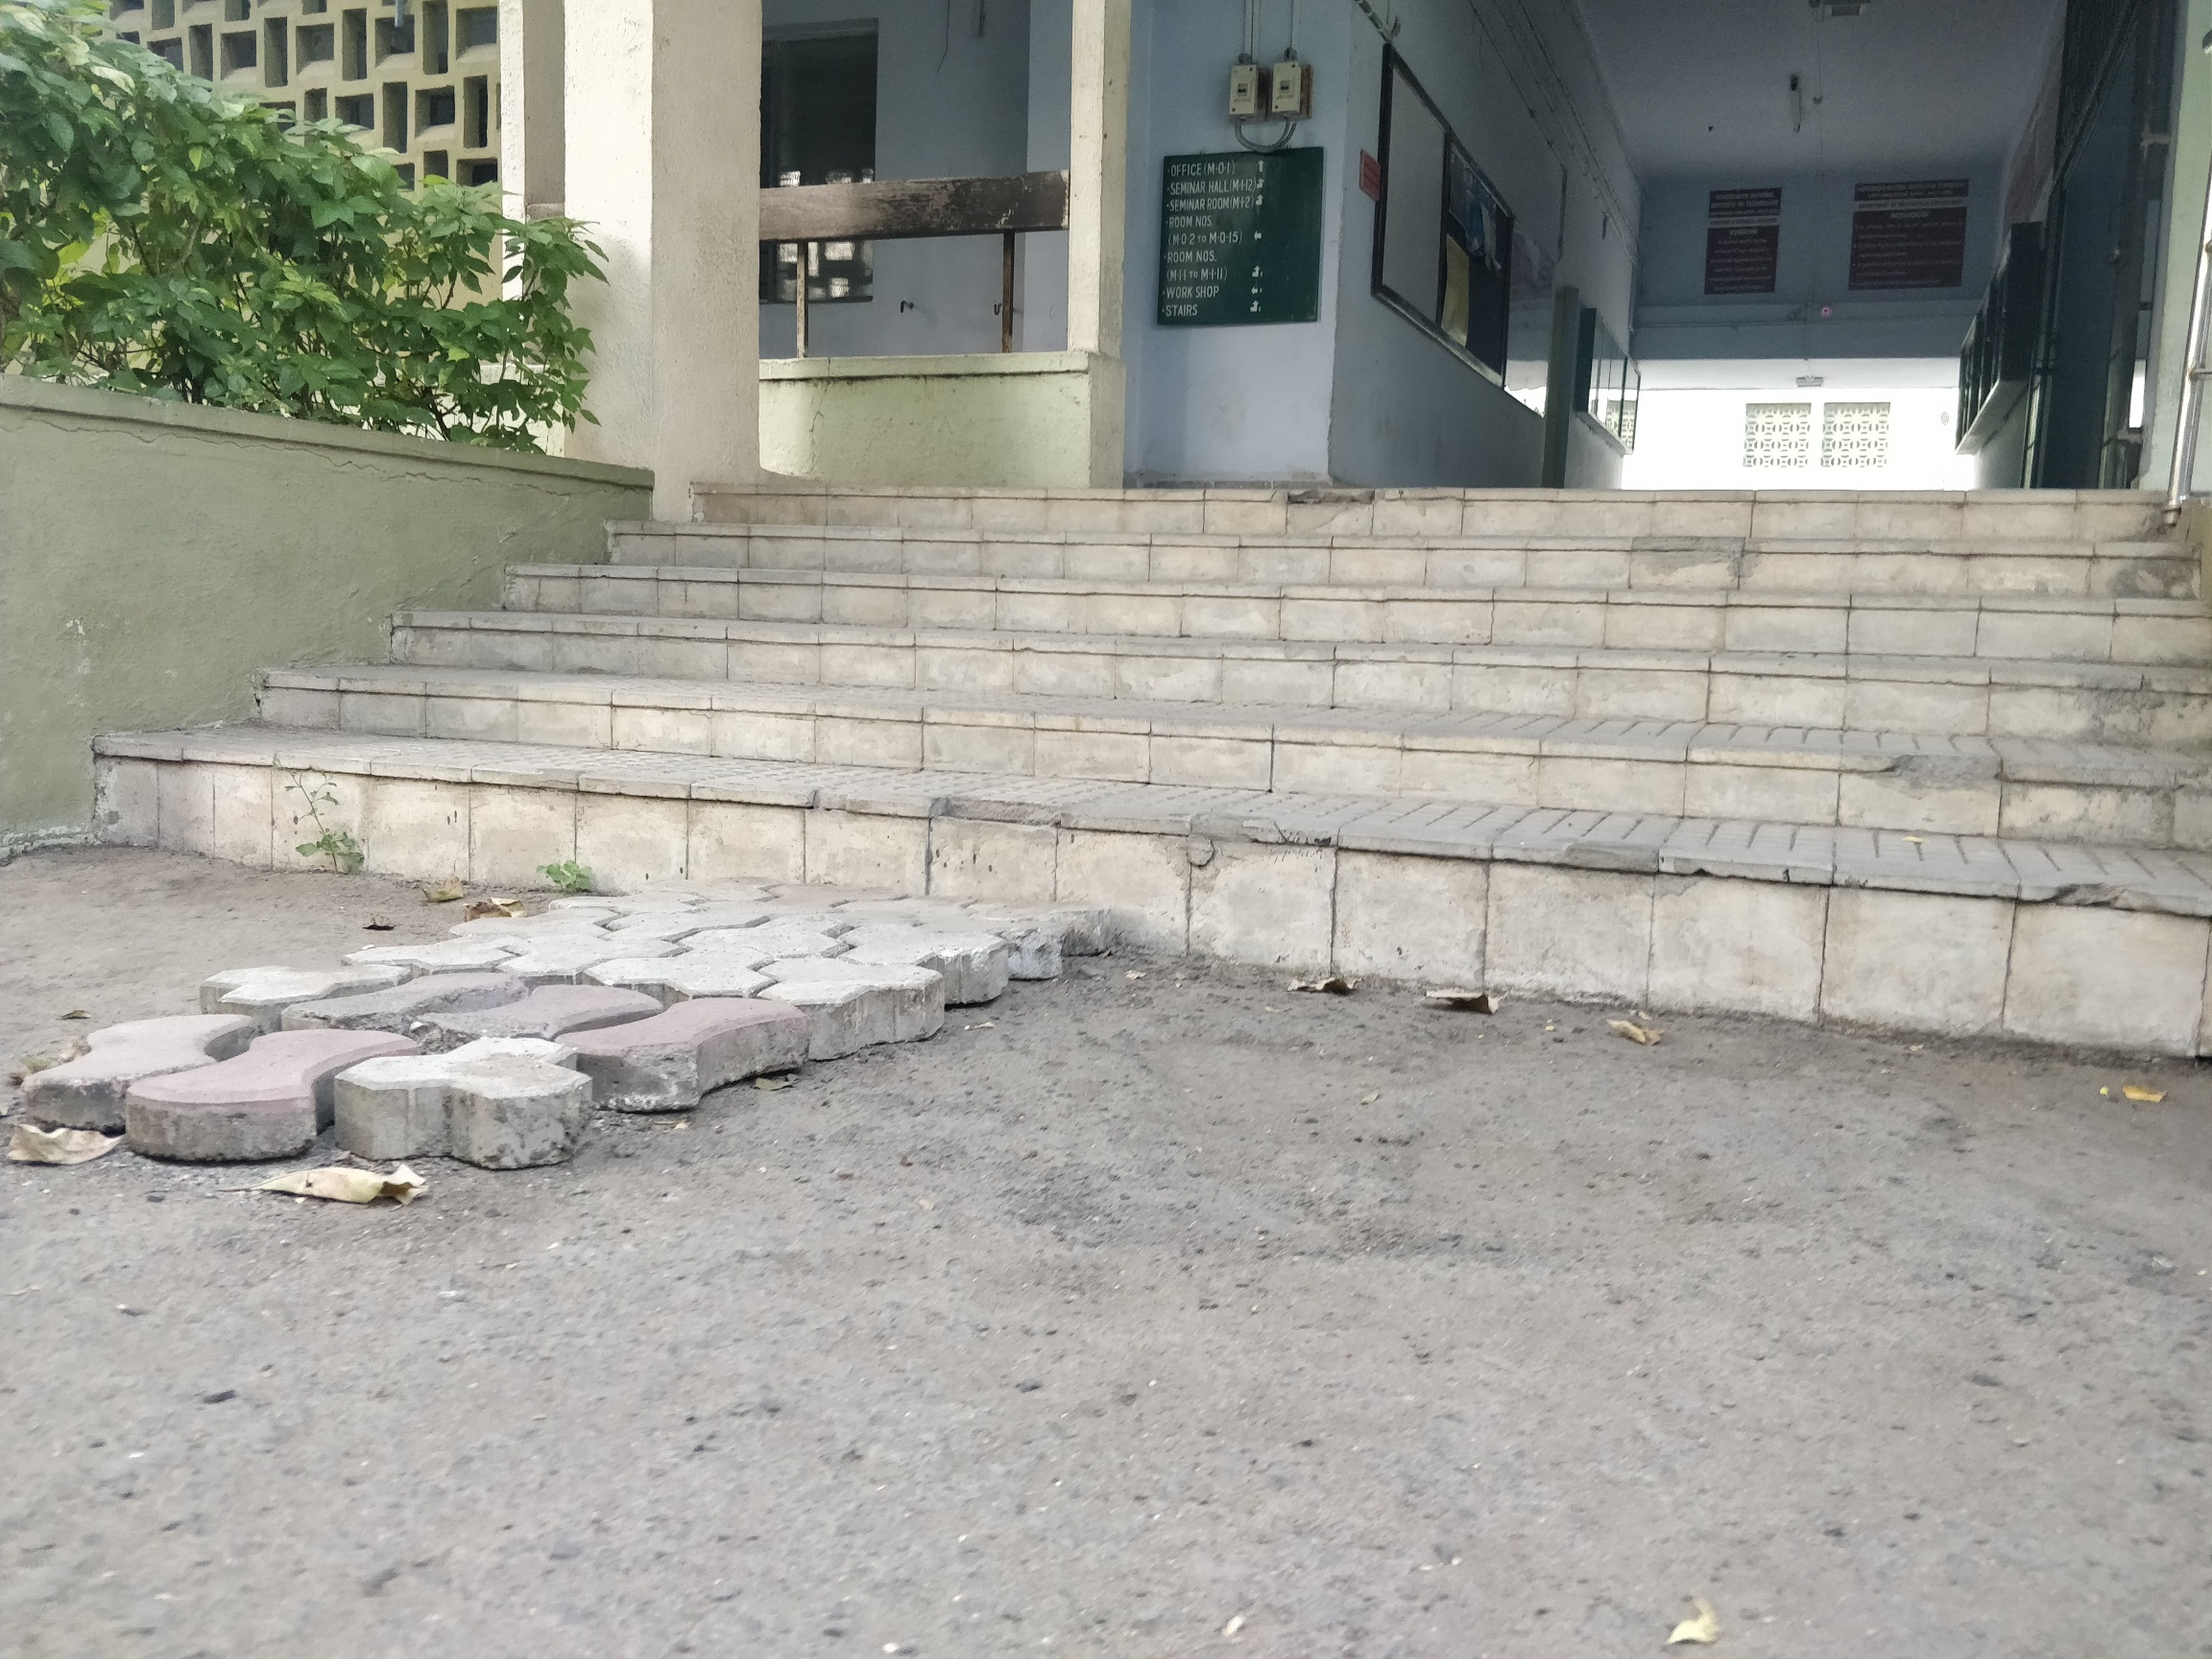stairs_up: (131, 453, 2210, 1053)
